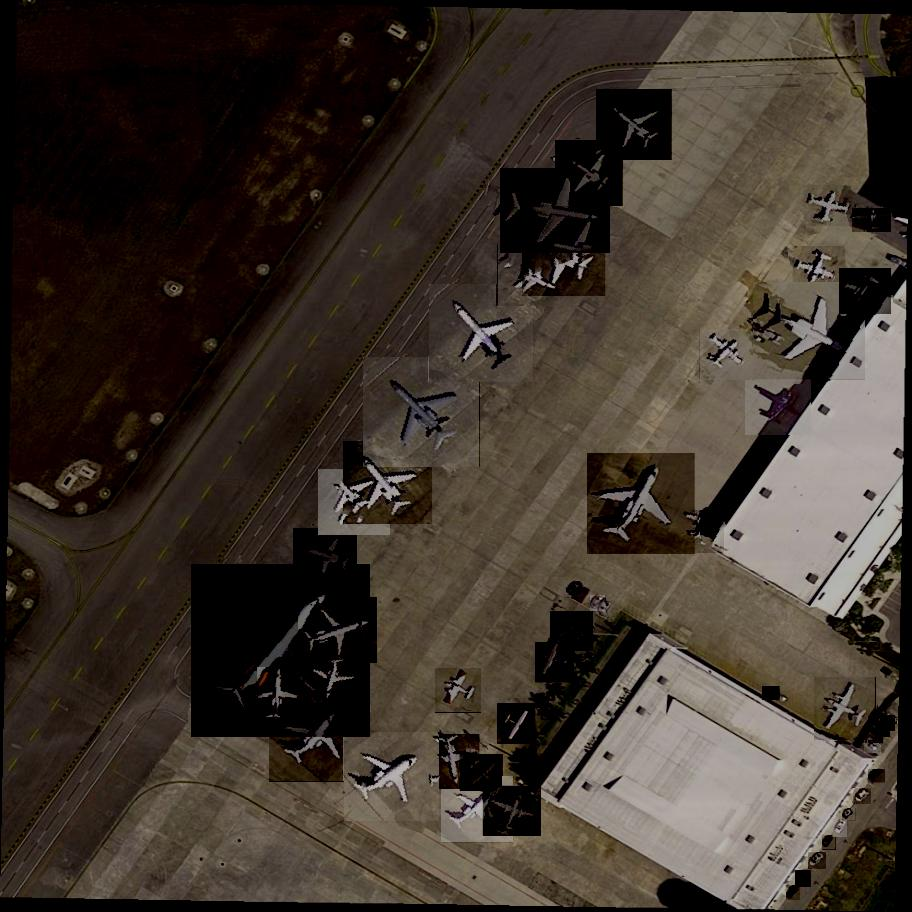large-vehicle: (822, 836, 837, 852)
plane: (191, 557, 371, 740), (363, 354, 481, 472), (587, 447, 695, 560), (754, 281, 865, 386), (429, 280, 535, 387), (501, 167, 610, 257), (270, 691, 366, 787), (345, 730, 440, 824), (343, 439, 433, 530), (522, 212, 606, 297), (597, 87, 673, 162), (299, 596, 377, 666), (319, 468, 391, 540), (441, 775, 514, 846), (555, 138, 623, 207), (498, 243, 566, 309), (815, 677, 877, 743), (745, 376, 812, 437), (293, 528, 357, 585), (427, 732, 480, 793), (700, 329, 755, 383), (484, 786, 541, 837), (306, 655, 360, 708), (839, 267, 891, 316), (794, 245, 846, 293), (259, 668, 303, 722), (435, 666, 482, 716), (676, 510, 725, 555), (804, 185, 853, 229), (550, 611, 593, 653), (461, 753, 503, 795), (498, 704, 537, 747), (535, 641, 574, 683), (853, 208, 891, 231)
small-vehicle: (565, 581, 584, 599), (808, 852, 826, 870), (853, 787, 871, 805), (795, 870, 812, 888), (868, 769, 886, 785), (591, 596, 607, 614), (833, 819, 848, 838), (762, 686, 781, 701), (599, 599, 614, 618), (786, 885, 802, 901), (864, 739, 881, 754), (880, 715, 895, 732), (869, 729, 884, 744), (843, 809, 857, 823), (876, 724, 890, 738)
